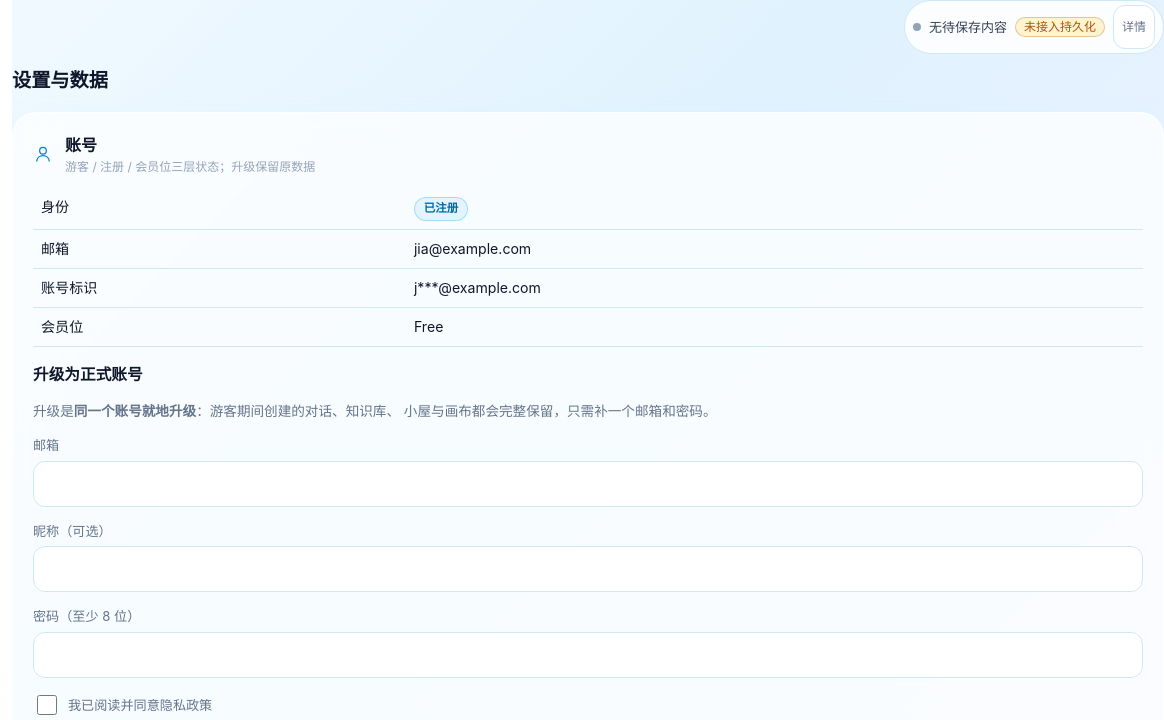
设置页账号卡 · 账号三层（W8） › 升级成功后明确告知原数据保留（就地升级，不换账号）
Type "jia@example.com" into the field with test id "upgrade-email" at (588, 484), box [33,460,1143,506]
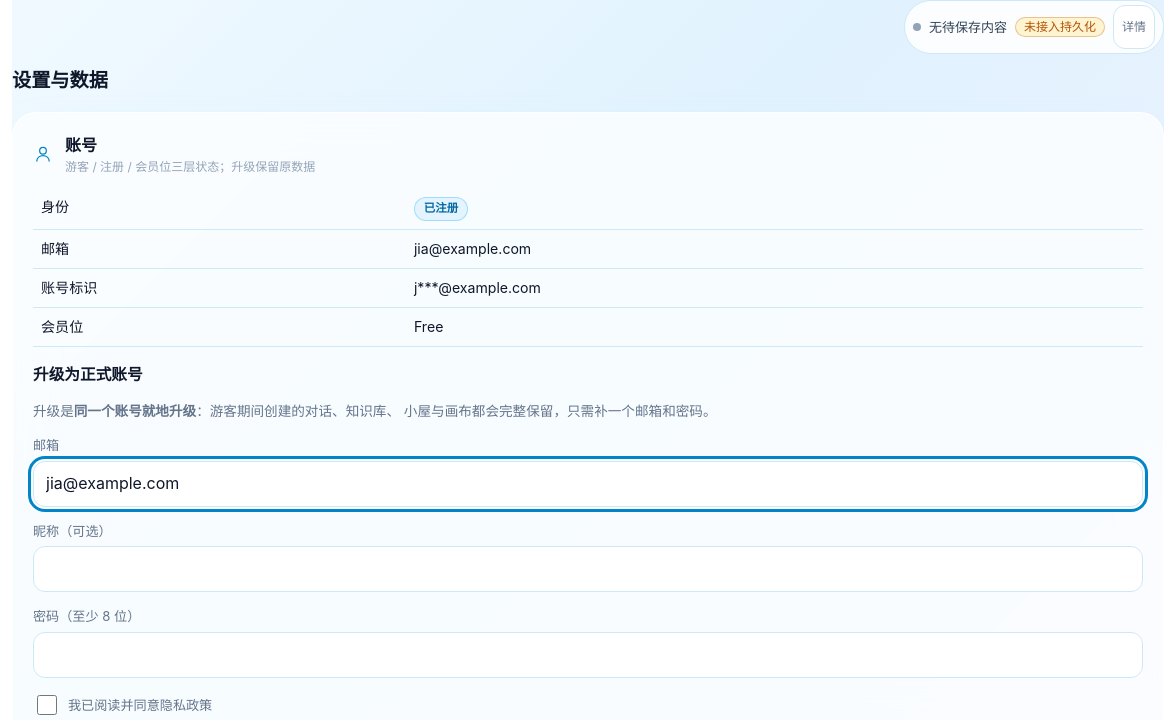
Type "correct-horse" into the password field with test id "upgrade-password" at (588, 654), box [33,632,1143,678]
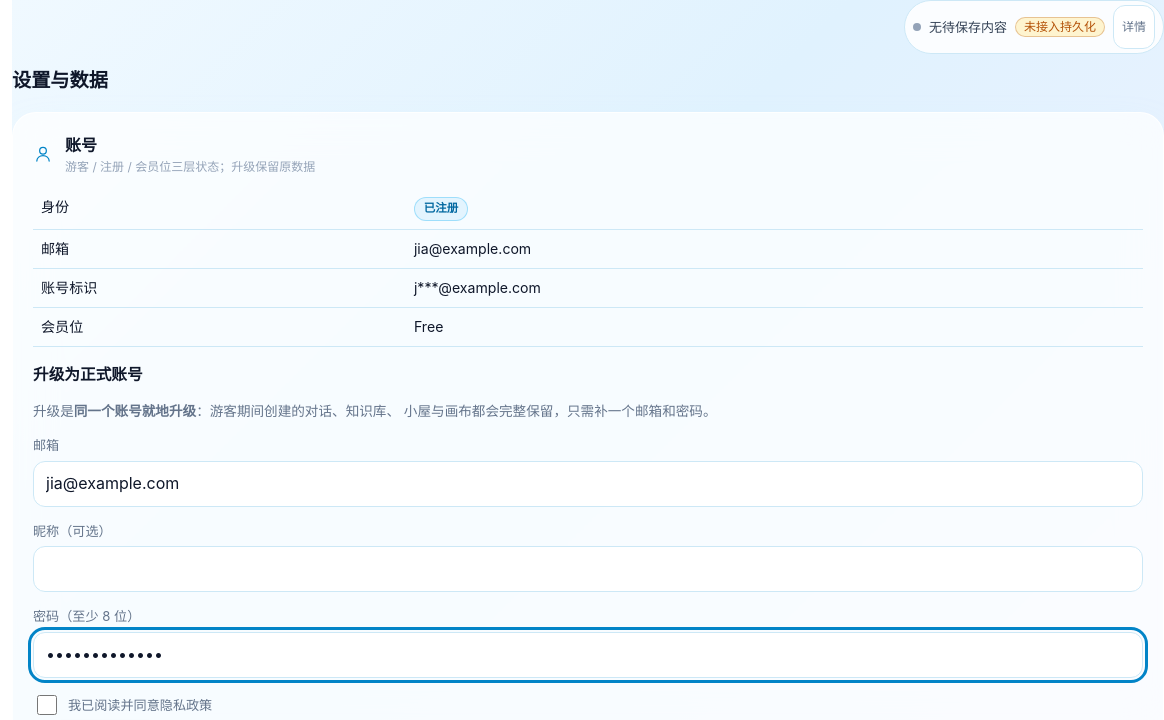
Click the checkbox with test id "upgrade-consent" at (47, 705), box [37,695,57,715]
(page scrolled)
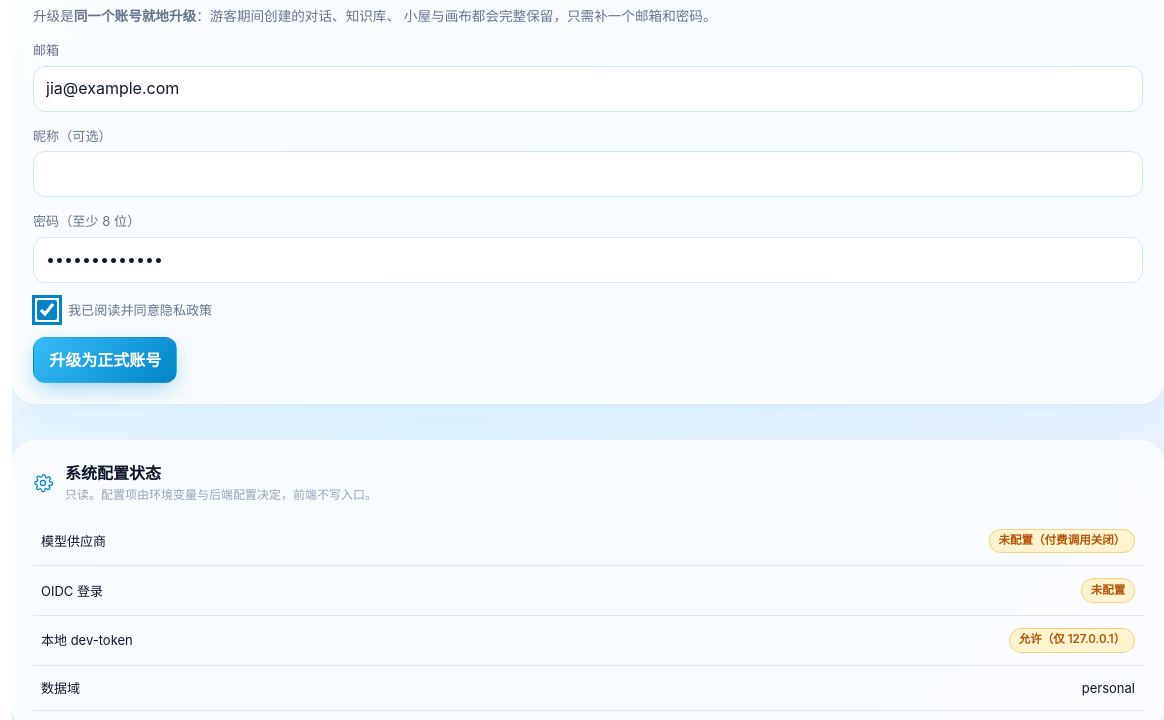
Click the button with test id "upgrade-submit" at (105, 360), box [33,337,177,383]
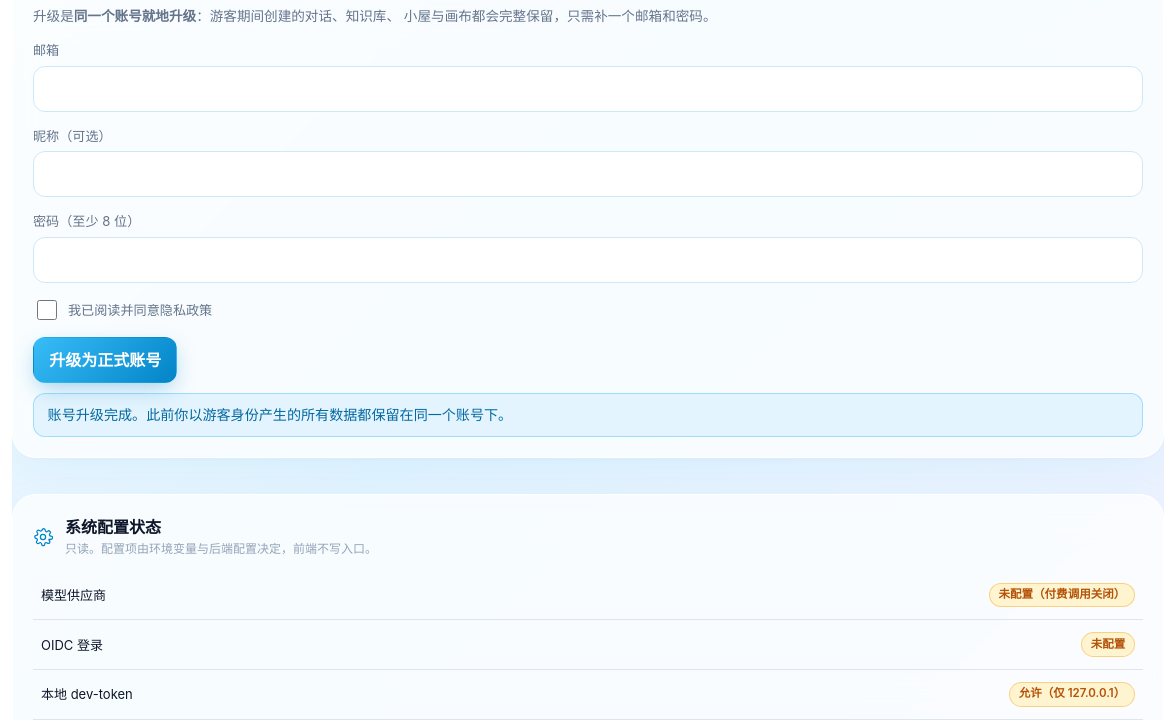
expect the text with test id "upgrade-msg" shows "所有数据都保留在同一个账号下": met, box [48,406,512,423]
expect the password field with test id "upgrade-password" is empty: met, box [33,236,1143,282]
